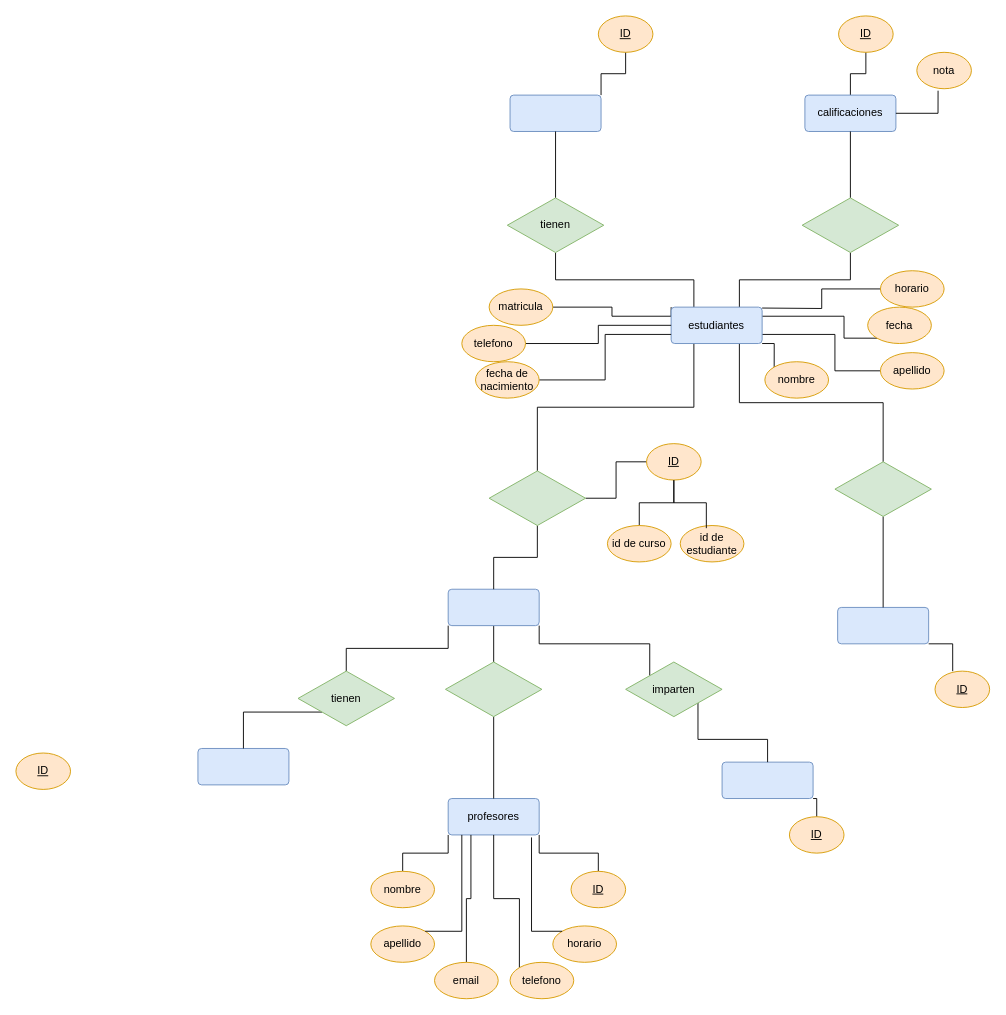
This 1006x1015 diagram has some shape labels left out. The box of each missing label's shape, as (x1, y1, x2, y2) in pixels:
actividades extracurriculares: (837, 607, 929, 644)
asistencias: (509, 94, 601, 131)
aulas: (721, 761, 813, 799)
cursos: (447, 588, 539, 626)
enseñan: (445, 661, 542, 717)
materias: (197, 748, 289, 785)
matriculados: (488, 470, 586, 526)
obtienen: (801, 197, 899, 253)
realizan: (834, 461, 931, 516)
